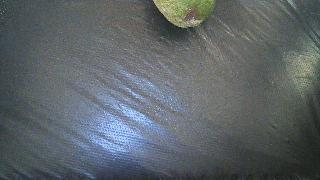DESECHO: (153, 0, 216, 28)
